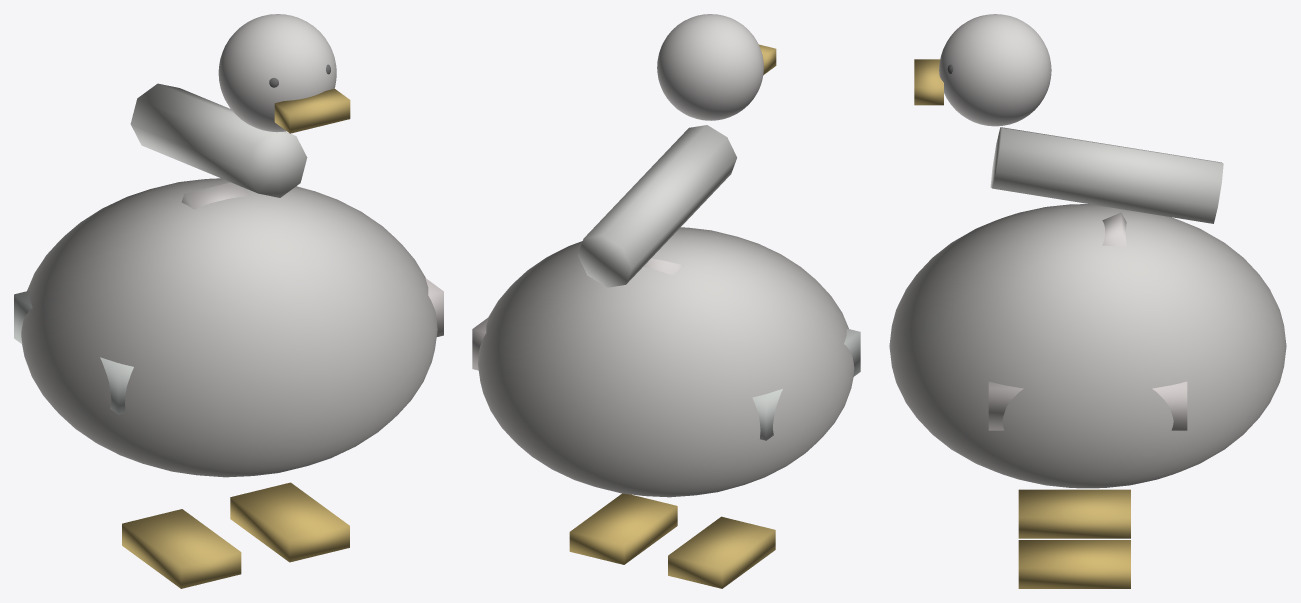
Rendered from lifecycle_goose_adult.glb.
The picture shows the model from 3 angles, left to right: view 1: azimuth 30°, elevation 25°; view 2: azimuth 150°, elevation 25°; view 3: azimuth 270°, elevation 25°; orthographic projection. The views are drawn at different scales.
Parts seen in each view (by area): view 1: body, neck, head, foot-1, foot1, beak, wing-1, tail, wing1; view 2: body, neck, head, foot1, foot-1, wing-1; view 3: body, neck, head, foot-1, foot1, wing1, beak, tail.
Part boxes in pixels (x1,y1,x2,y2): body: (21, 178, 437, 477); neck: (130, 83, 307, 197); head: (218, 14, 336, 132); foot-1: (122, 509, 241, 588); foot1: (230, 482, 349, 562); beak: (274, 88, 350, 133); wing-1: (14, 290, 133, 414); tail: (181, 182, 248, 209); wing1: (425, 278, 443, 336); body: (478, 227, 854, 497); neck: (577, 125, 737, 287); head: (657, 14, 763, 120); foot1: (569, 493, 677, 564); foot-1: (668, 516, 775, 588); wing-1: (752, 328, 860, 440); body: (889, 204, 1286, 488); neck: (990, 127, 1223, 223); head: (939, 14, 1051, 126); foot-1: (1018, 489, 1130, 538); foot1: (1018, 540, 1130, 588); wing1: (988, 381, 1187, 430); beak: (914, 59, 943, 105); tail: (1102, 212, 1126, 247).
Bounding box in the file's own units: 0.6 × 0.8845 × 0.6.
